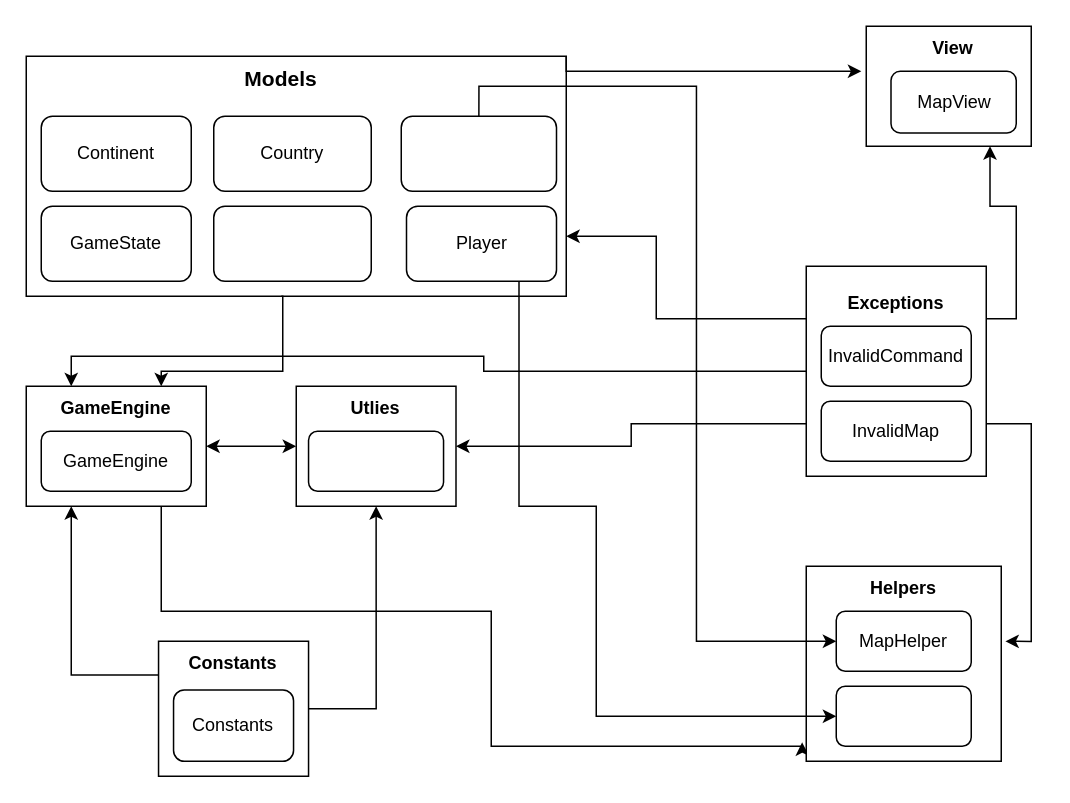
Some shapes in this 1070 by 803 pixel diagram are drawn without their labels. Here are the shapes that lost their labels. From the top down, the centre of each, then its label:
At (x=478, y=153): "Map".
At (x=291, y=243): "Order".
At (x=375, y=460): "Command".
At (x=903, y=715): "PlayerHelp".
